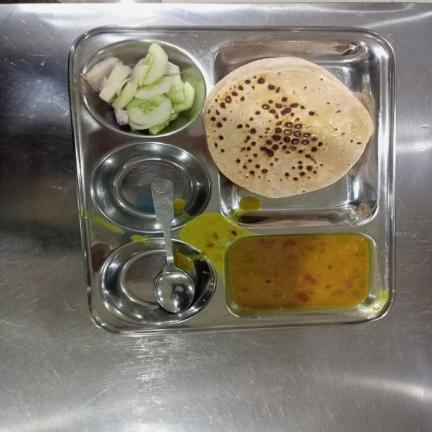Chana Dal: (228, 234, 370, 308)
Plate: (67, 25, 397, 336)
Roti: (203, 55, 376, 199)
Salad: (86, 42, 195, 137)
